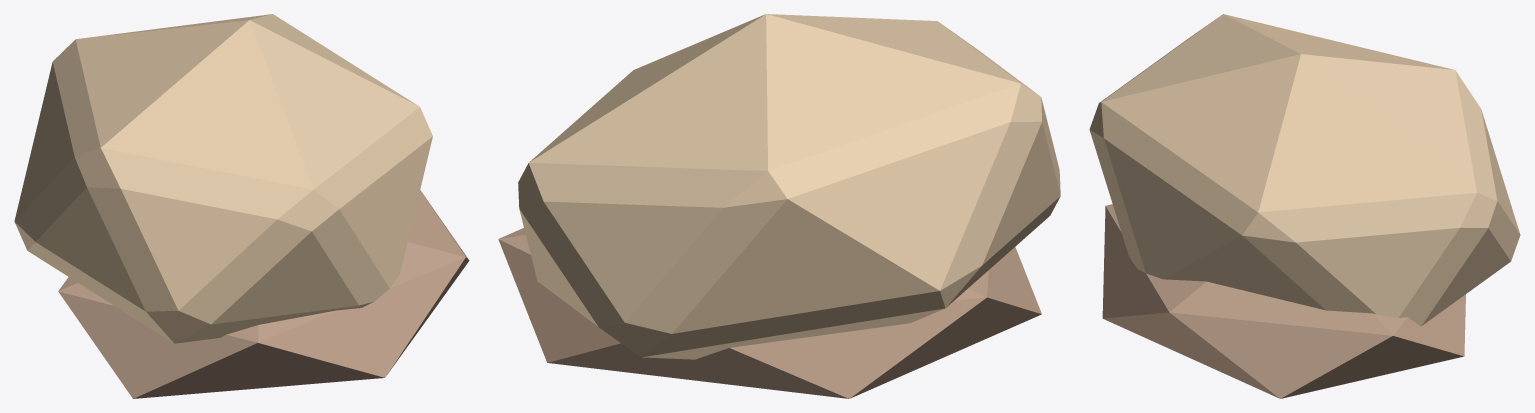
The model's file is rock_desert_small.glb.
The picture shows the model from 3 angles, left to right: view 1: azimuth 30°, elevation 25°; view 2: azimuth 150°, elevation 25°; view 3: azimuth 270°, elevation 25°; orthographic projection. The views are drawn at different scales.
Visible parts, largest first — view 1: Rock, RockBase; view 2: Rock, RockBase; view 3: Rock, RockBase.
Boxes of the visible parts, bbox=[...] form: Rock: bbox=[14, 14, 432, 343]; RockBase: bbox=[58, 190, 469, 398]; Rock: bbox=[518, 14, 1060, 359]; RockBase: bbox=[498, 228, 1041, 398]; Rock: bbox=[1089, 14, 1520, 326]; RockBase: bbox=[1102, 204, 1465, 398].
Bounding box in the file's own units: 0.4752 × 0.3513 × 0.4741.
